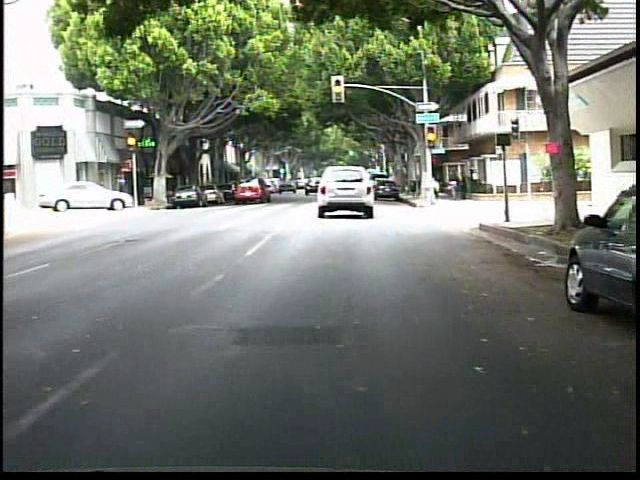person: (420, 171, 442, 210), (446, 168, 461, 202), (456, 167, 469, 204), (467, 163, 478, 196)
